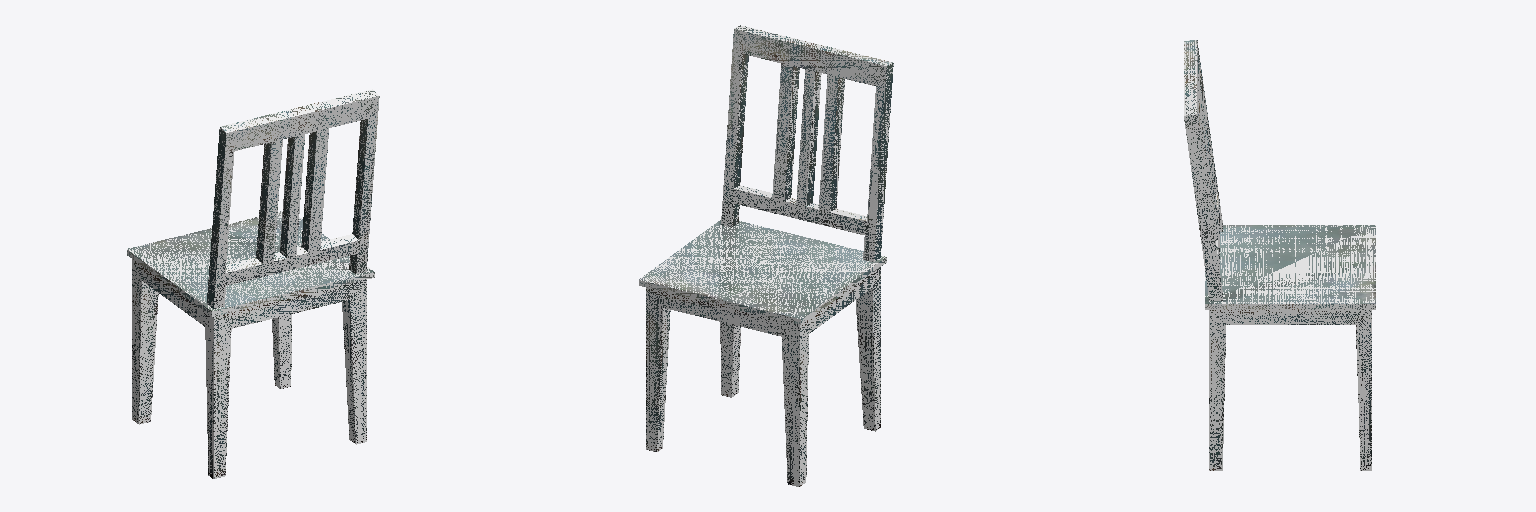
3 renders of one model, left to right at view 1: azimuth 30°, elevation 25°; view 2: azimuth 150°, elevation 25°; view 3: azimuth 270°, elevation 25°, orthographic.
Parts seen in each view (by area): view 1: mesh1_mesh1-geometry, mesh2_mesh2-geometry; view 2: mesh1_mesh1-geometry, mesh2_mesh2-geometry; view 3: mesh1_mesh1-geometry, mesh2_mesh2-geometry.
Boxes of the visible parts, x1,y1,x2,y2 form: mesh1_mesh1-geometry: [127, 211, 374, 478]; mesh2_mesh2-geometry: [207, 89, 379, 308]; mesh1_mesh1-geometry: [639, 220, 886, 486]; mesh2_mesh2-geometry: [721, 25, 893, 261]; mesh1_mesh1-geometry: [1205, 225, 1375, 470]; mesh2_mesh2-geometry: [1184, 40, 1222, 300].
Bounding box in the file's own units: 0.3936 × 0.8259 × 0.4037.
10 materials, 8 textured.